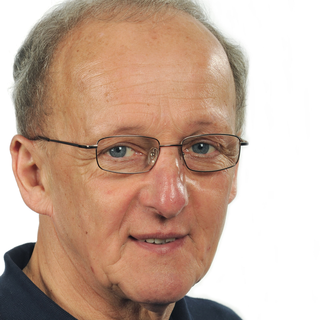eye: (98, 141, 148, 165), (180, 139, 229, 161)
